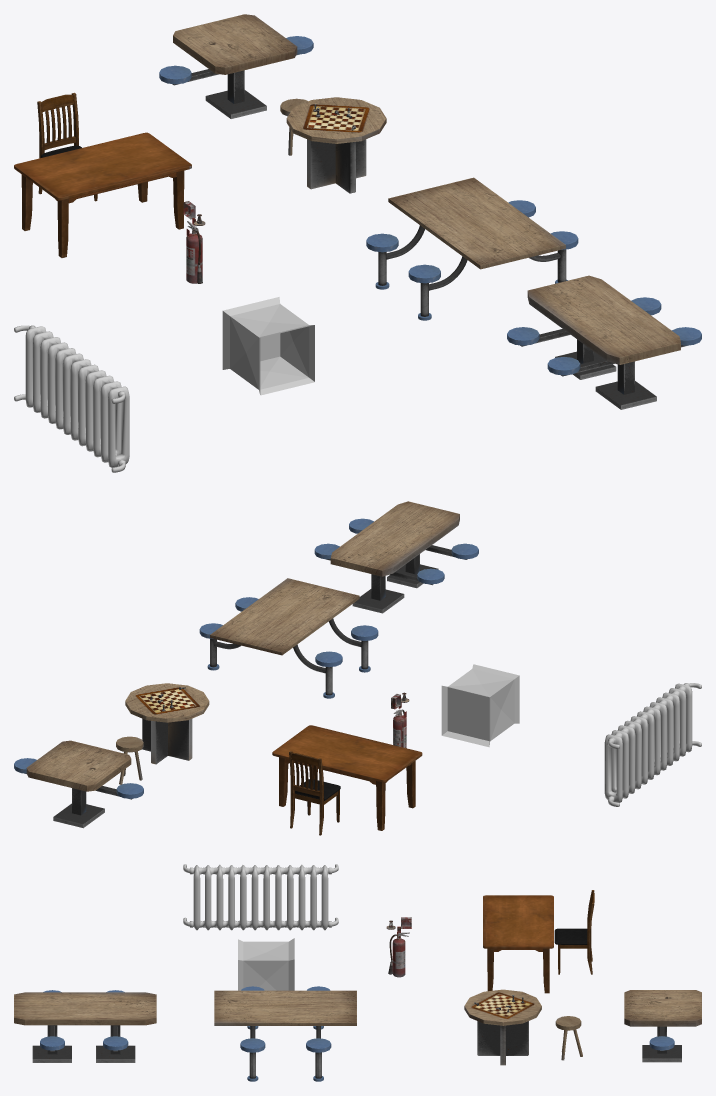
File: prison seats.fbx
3 views of the same model, one above another, from view 1: azimuth 30°, elevation 25°; view 2: azimuth 150°, elevation 25°; view 3: azimuth 270°, elevation 25° (orthographic). The views are drawn at different scales.
Parts seen in each view (by area): view 1: Table_2, Table_1, radiator, old_table, Table_3, Ventilation, ChessTable, chair, Fire_Extinguisher.mo; view 2: Table_2, Table_1, radiator, old_table, Table_3, ChessTable, Ventilation, chair, Куб.001, WoodenChair; view 3: Table_2, radiator, Table_1, old_table, ChessTable, Table_3, Ventilation, chair, Fire_Extinguisher.mo, WoodenChair.
Part boxes in pixels (x1,y1,x2,y2): Table_2: (507, 275, 701, 409); Table_1: (366, 177, 578, 320); radiator: (14, 325, 129, 472); old_table: (14, 132, 191, 257); Table_3: (159, 14, 313, 118); Ventilation: (222, 297, 314, 395); ChessTable: (286, 97, 386, 193); chair: (37, 92, 97, 201); Fire_Extinguisher.mo: (186, 221, 202, 283); Table_2: (314, 501, 478, 613); Table_1: (199, 578, 378, 698); radiator: (604, 683, 701, 806); old_table: (272, 725, 422, 830); Table_3: (14, 740, 143, 828); ChessTable: (125, 683, 209, 764); Ventilation: (441, 664, 519, 747); chair: (289, 751, 340, 835); Куб.001: (447, 687, 489, 741); WoodenChair: (116, 736, 143, 784); Table_2: (14, 990, 156, 1062); radiator: (183, 864, 338, 930); Table_1: (214, 986, 356, 1081); old_table: (483, 895, 553, 993); ChessTable: (464, 989, 541, 1065); Table_3: (624, 990, 701, 1062); Ventilation: (238, 938, 294, 990); chair: (554, 890, 594, 974); Fire_Extinguisher.mo: (388, 931, 409, 977); WoodenChair: (555, 1016, 582, 1060).
Bounding box in the file's own units: 13.42 × 3.4 × 20.31.
